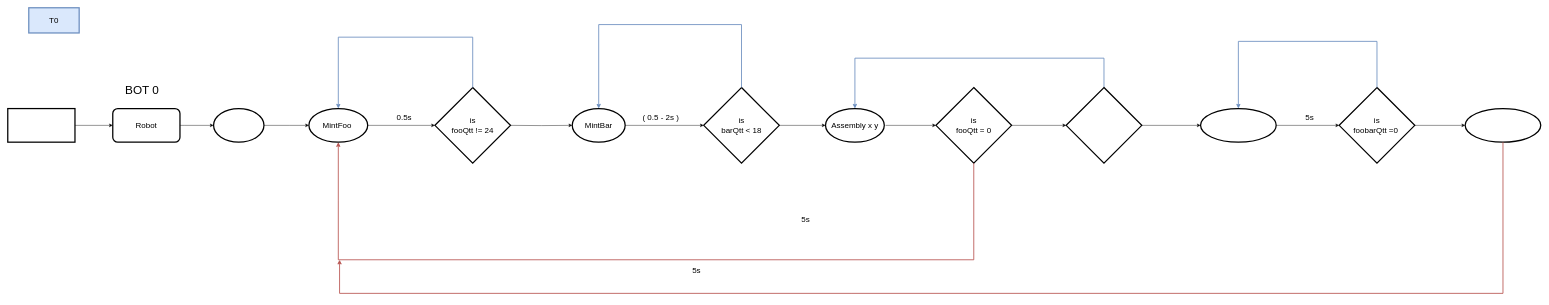
This 1549x305 diagram has some shape labels left out. The centre of each missing label's shape, as x and y in pixels:
BootRobot: pixel 238 125
buyMaxBot: pixel 1502 125
is foobarQtt < 3: pixel 1103 125
RobotFactory: pixel 41 125
sellFooBar: pixel 1238 125
